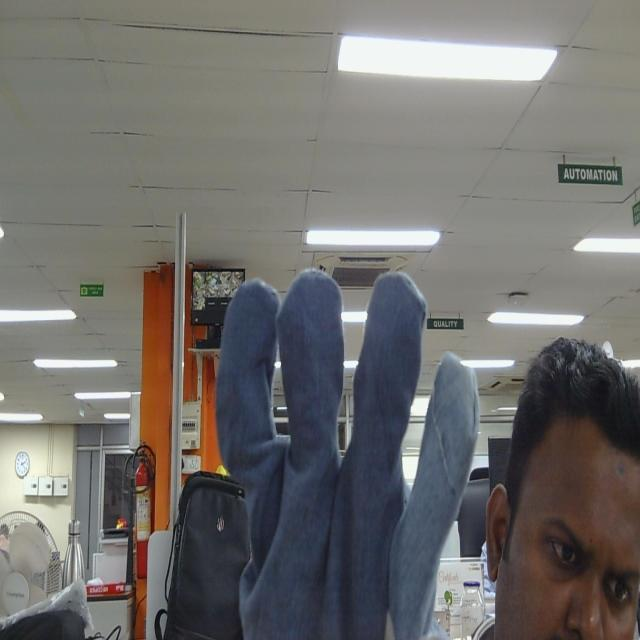Gloves-Detection: (213, 258, 478, 640)
